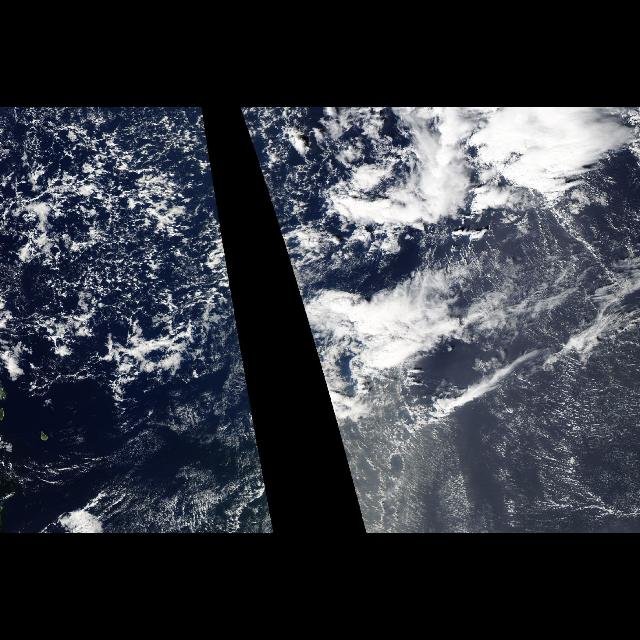Gravel: (0, 108, 248, 374), (240, 107, 288, 263)
Sugar: (351, 355, 639, 533), (128, 421, 272, 529)
